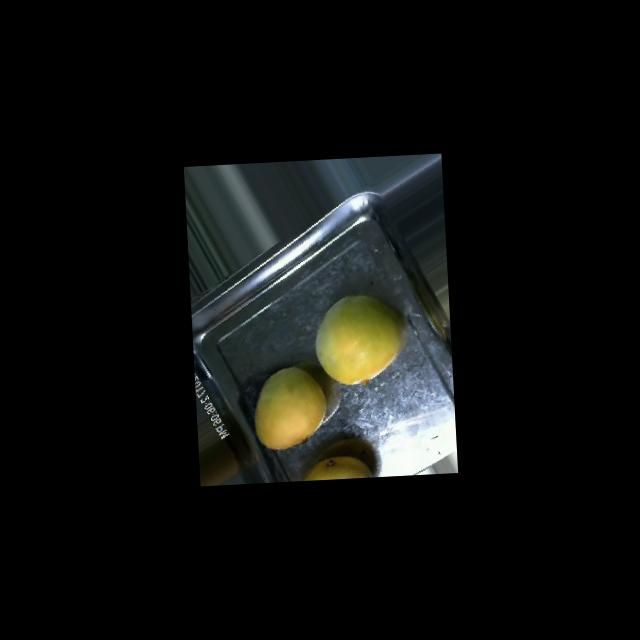Mango: (310, 292, 410, 388), (250, 365, 328, 453), (294, 454, 372, 482)
